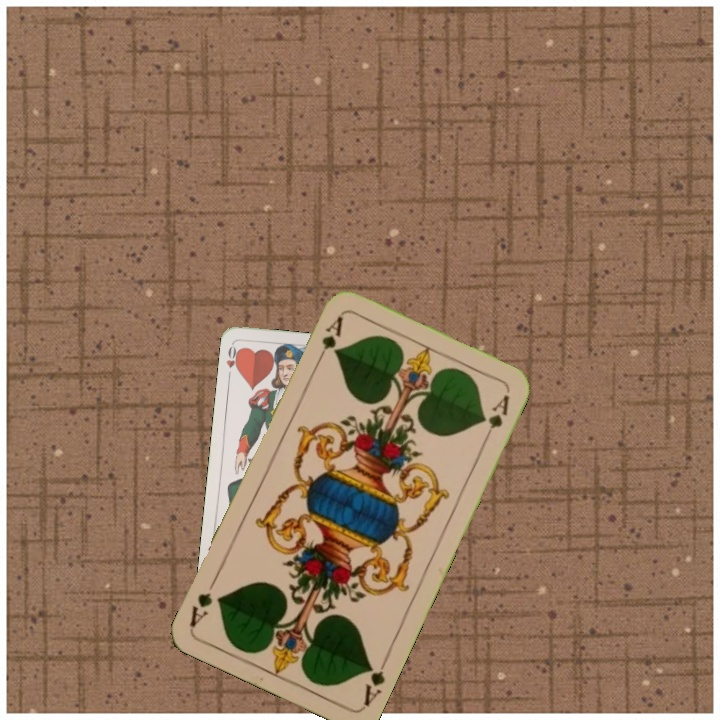GA: (312, 312, 346, 367), (359, 652, 391, 709)
HO: (222, 340, 242, 380)
